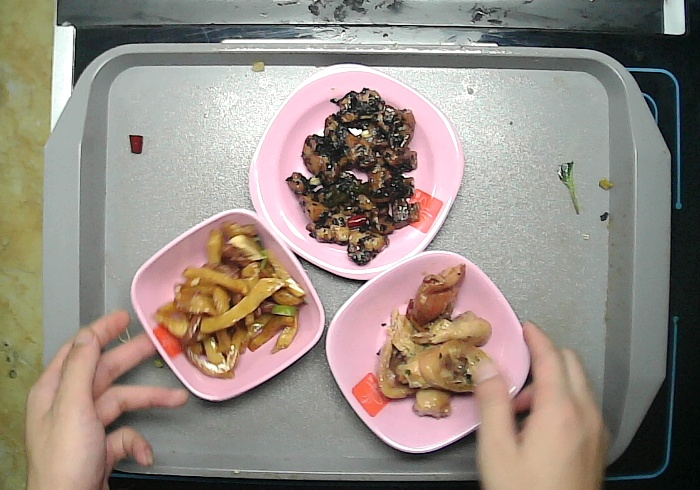SHKJ-Fen_Se_Cai_Die: (326, 251, 529, 453)
SHKJ-Fen_Se_Si_Fang_Cai_Die: (248, 64, 463, 281)
SHKJ-Fen_Se_Xiao_Fang_Die: (130, 209, 324, 400)
